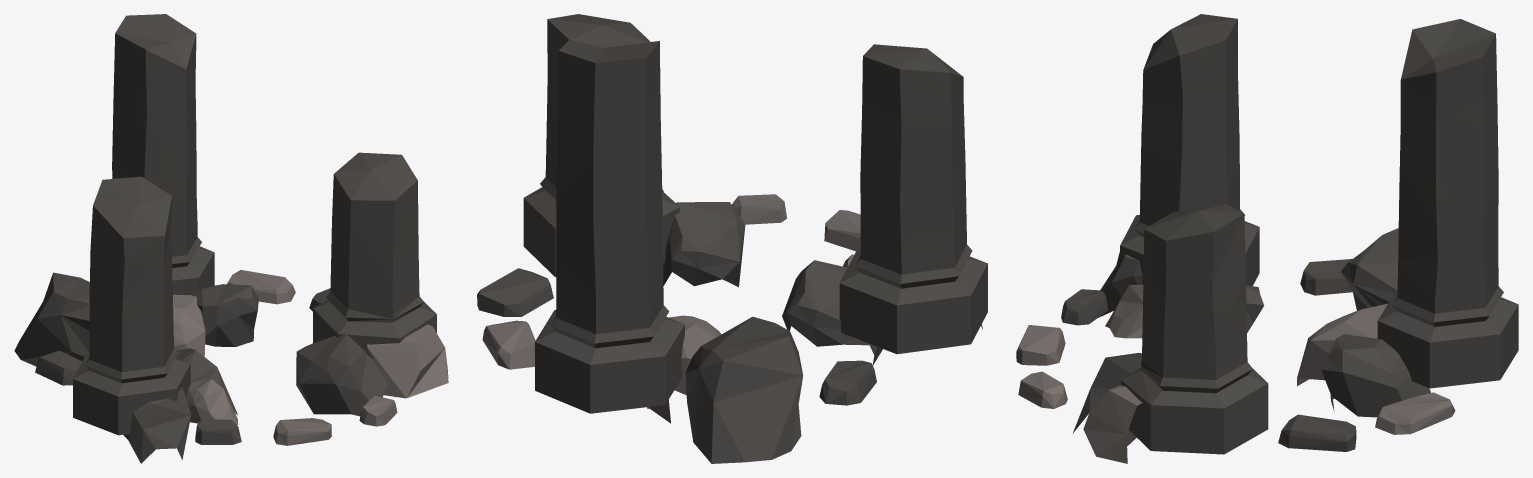
Rendered from ruins.fbx.
3 views of the same model, side by side, from view 1: azimuth 30°, elevation 25°; view 2: azimuth 150°, elevation 25°; view 3: azimuth 270°, elevation 25° (orthographic). The views are drawn at different scales.
Visible parts, largest first — view 1: ruins; view 2: ruins; view 3: ruins.
Part boxes in pixels (x1,y1,x2,y2): ruins: (14, 14, 448, 463); ruins: (477, 14, 987, 463); ruins: (1016, 14, 1518, 463).
Size of the model in its own units: 2.63 by 2.27 by 2.78.
1 material, 1 textured.
